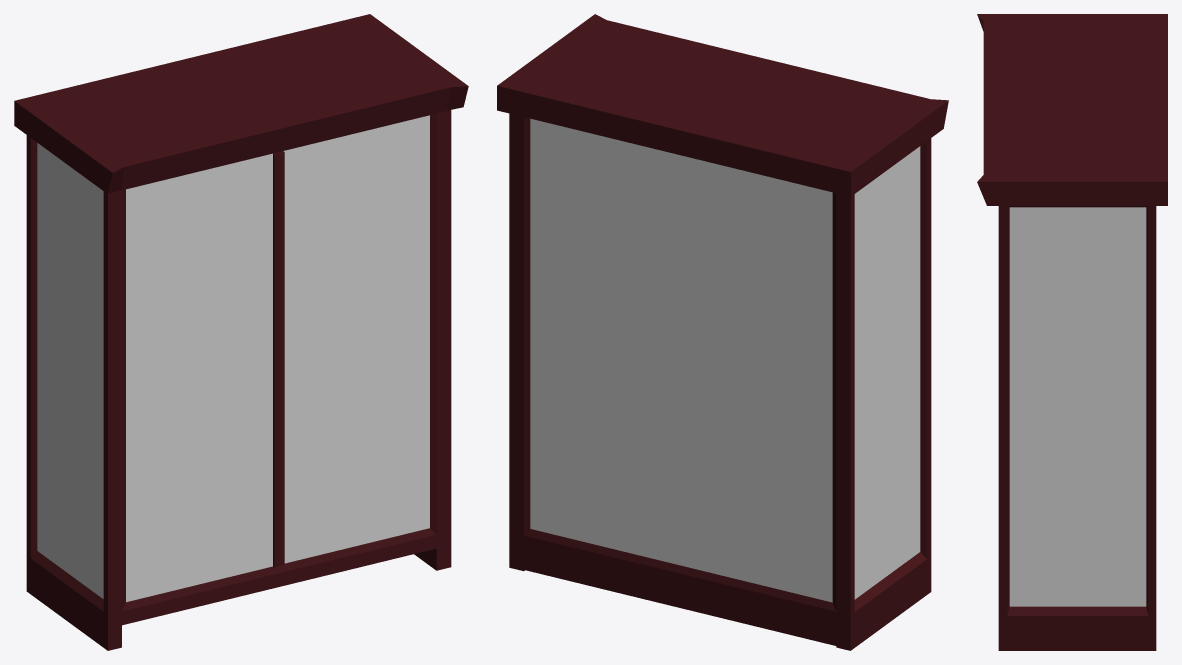
Rendered from mobileGrandeCorridoio2.fbx.
3 views of the same model, side by side, from view 1: azimuth 30°, elevation 25°; view 2: azimuth 150°, elevation 25°; view 3: azimuth 270°, elevation 25° (orthographic). The views are drawn at different scales.
Visible parts, largest first — view 1: Mobile, Mobile.001, Top; view 2: Mobile, Top; view 3: Mobile, Top.
Part boxes in pixels (<box>): Mobile: <box>26,110,451,650</box>; Mobile.001: <box>283,115,429,563</box>; Top: <box>14,14,468,193</box>; Mobile: <box>509,113,931,650</box>; Top: <box>497,14,948,196</box>; Mobile: <box>998,206,1156,650</box>; Top: <box>977,14,1167,205</box>.
Bounding box in the file's own units: 689 × 902 × 331.
